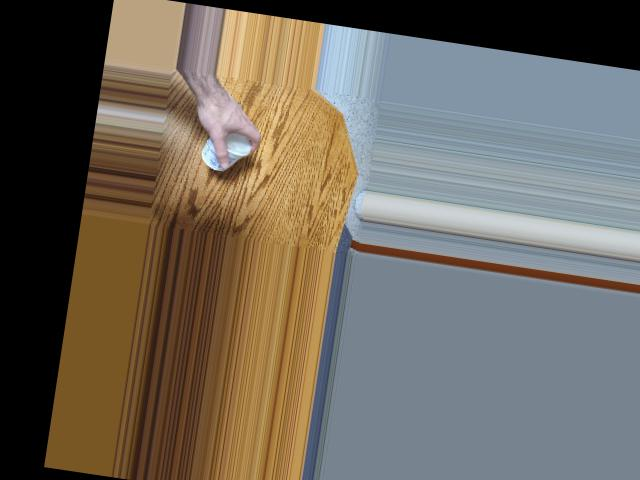cotage: (195, 119, 255, 171)
